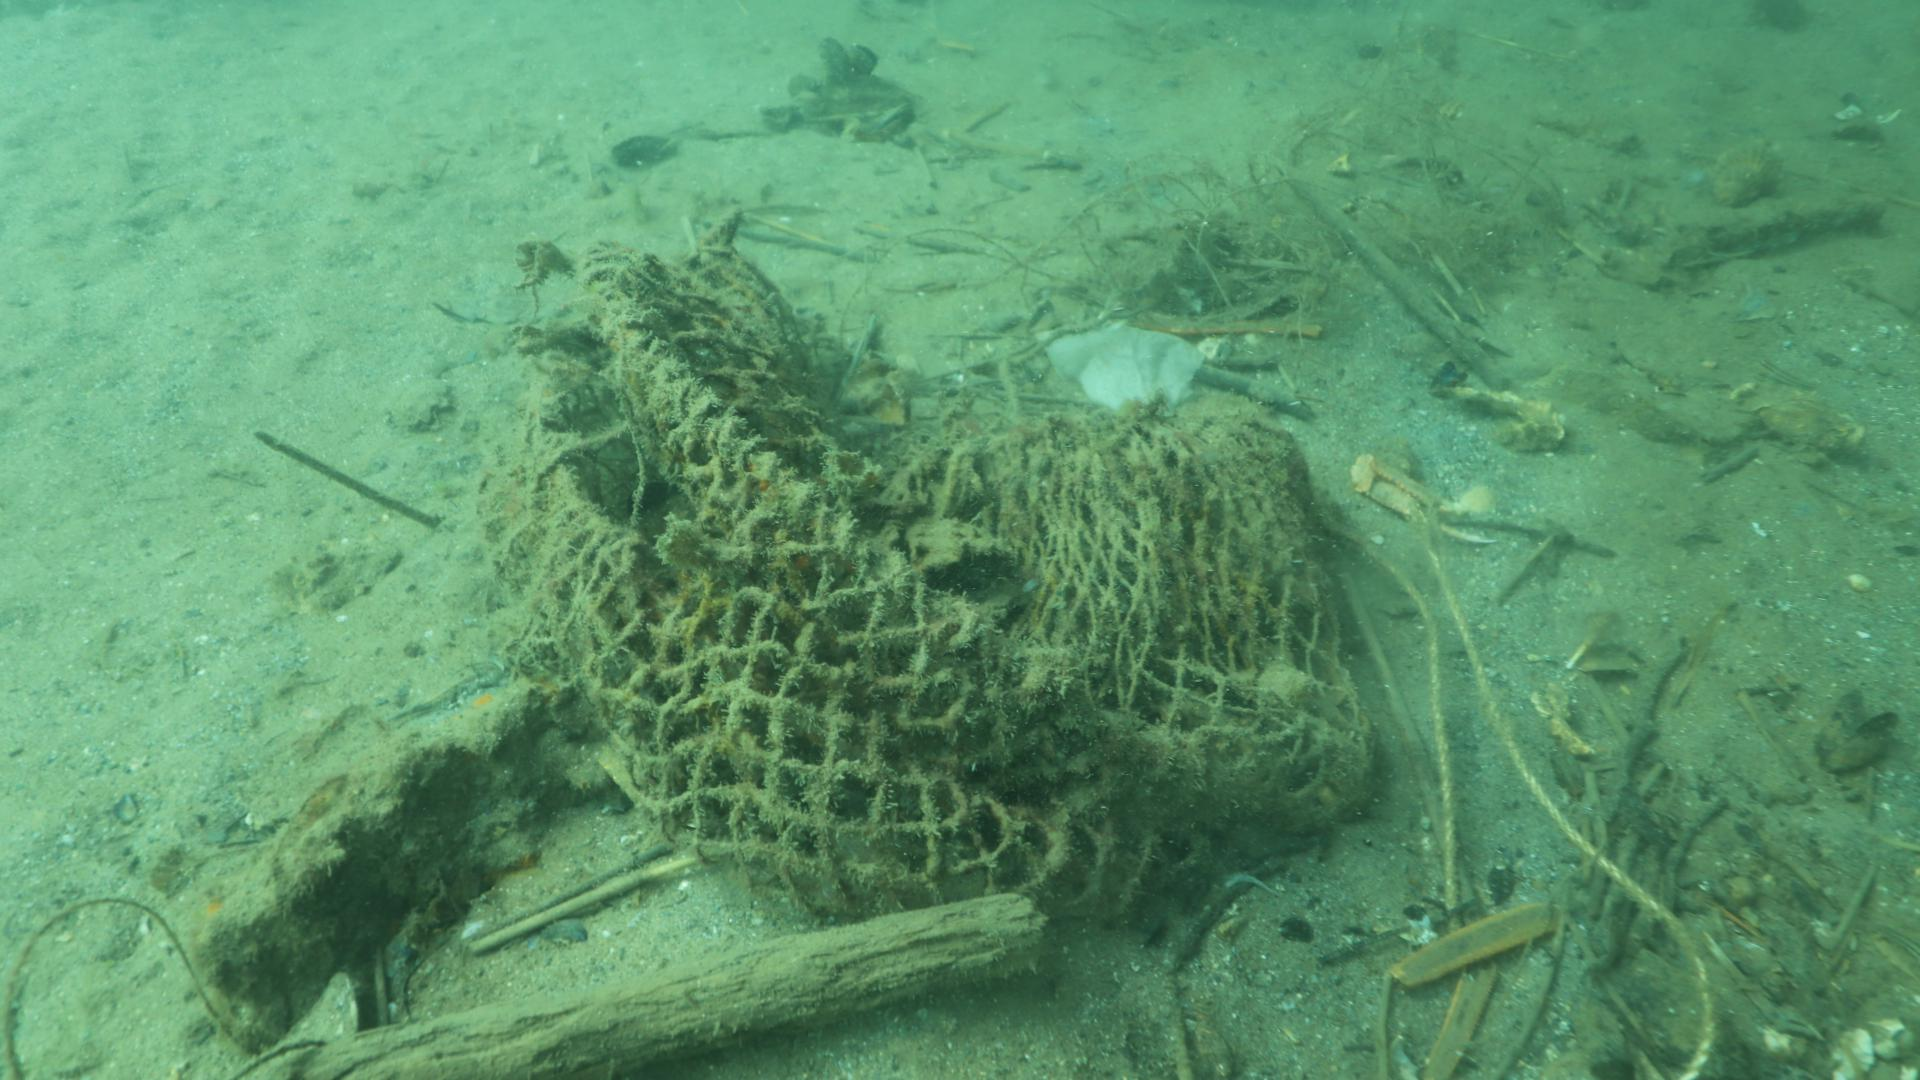fish net: (473, 232, 1371, 931)
rope: (1311, 443, 1724, 1080)
